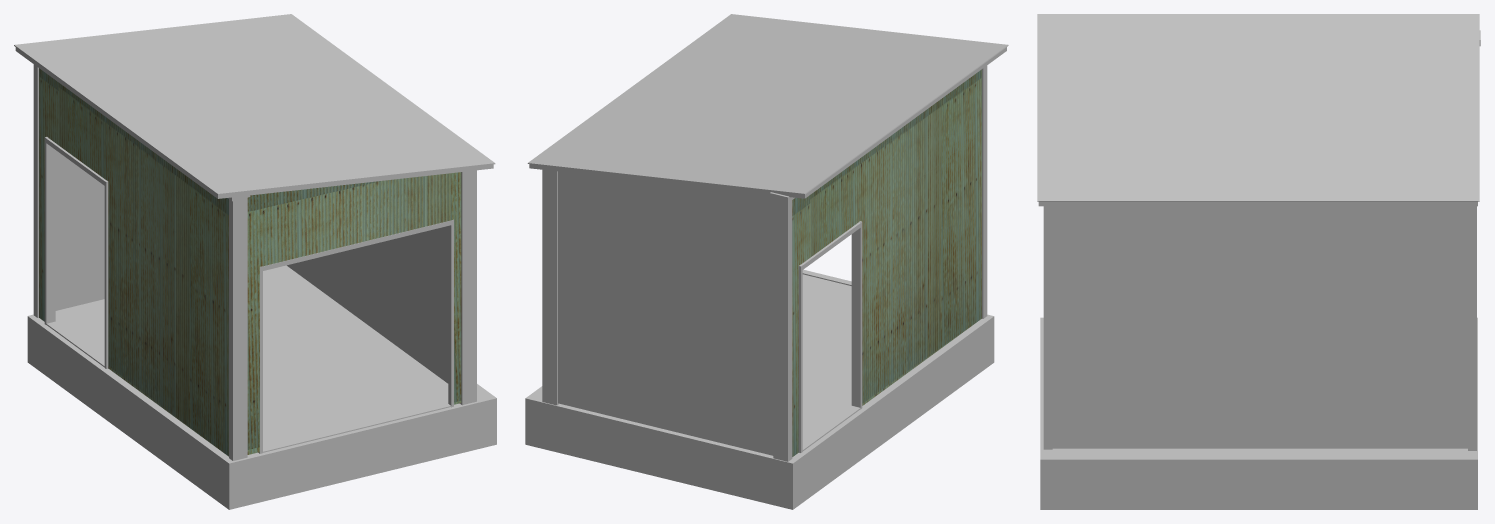
The model's file is JpHouse_Garage02al.fbx.
3 renders of one model, left to right at view 1: azimuth 30°, elevation 25°; view 2: azimuth 150°, elevation 25°; view 3: azimuth 270°, elevation 25°, orthographic. The views are drawn at different scales.
Visible parts, largest first — view 1: JpHouse_Garage02al; view 2: JpHouse_Garage02al; view 3: JpHouse_Garage02al.
Part boxes in pixels (bbox=[...]): JpHouse_Garage02al: bbox=[14, 14, 496, 509]; JpHouse_Garage02al: bbox=[525, 14, 1008, 509]; JpHouse_Garage02al: bbox=[1037, 14, 1480, 509].
Size of the model in its own units: 3.91 by 4.26 by 4.93.
